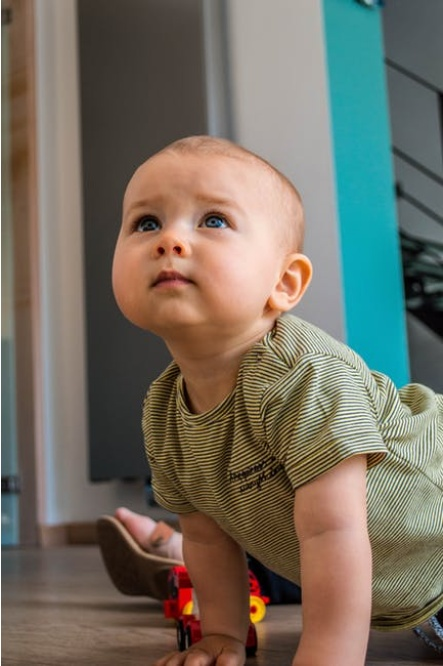face: (112, 159, 270, 321)
